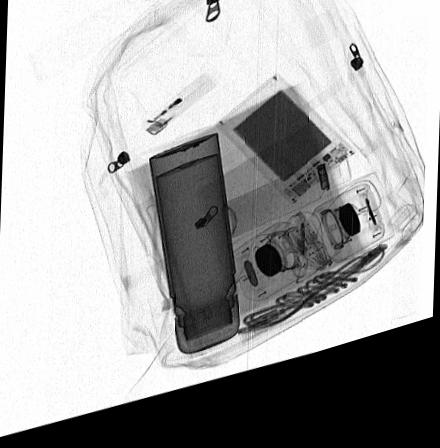Lighter: (138, 85, 215, 147)
Powerbank: (215, 87, 355, 221), (219, 176, 351, 253)
